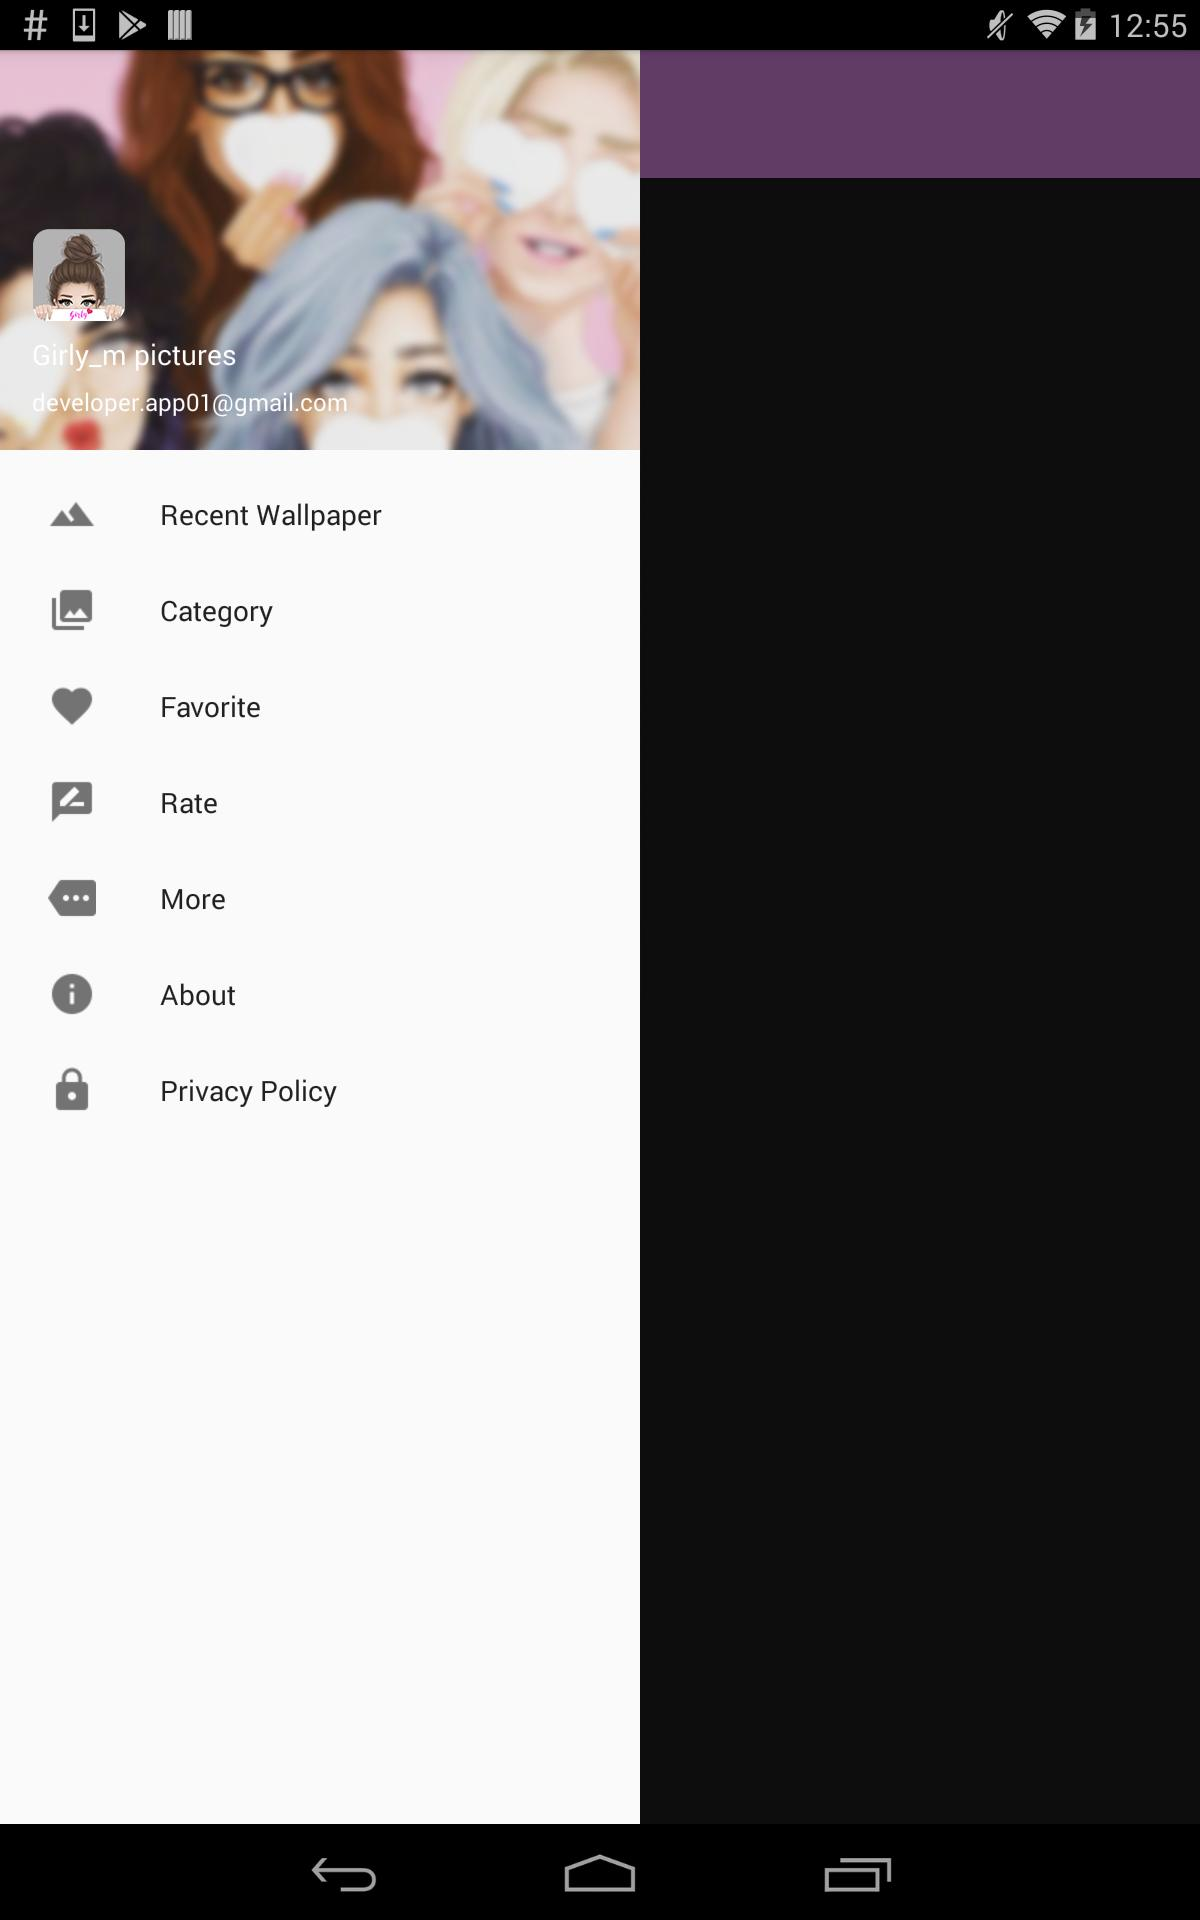android.support.v4.widget.DrawerLayout: (0, 50, 1200, 1825)
android.support.v7.widget.LinearLayoutCompat: (0, 466, 640, 563), (0, 753, 640, 850), (0, 945, 640, 1042), (0, 563, 640, 658), (0, 658, 640, 753), (0, 850, 640, 945), (0, 1042, 640, 1138)
android.support.v7.widget.RecyclerView: (0, 50, 640, 1825)
android.view.View: (0, 50, 1200, 178)
android.widget.CheckedTextView: (48, 466, 592, 563), (48, 753, 592, 850), (48, 945, 592, 1042), (48, 563, 592, 658), (48, 658, 592, 753), (48, 850, 592, 945), (48, 1042, 592, 1138)
android.widget.FrameLayout: (0, 0, 1200, 1825), (0, 50, 1200, 1825), (0, 178, 1200, 1825), (0, 50, 640, 1825)
android.widget.GridView: (4, 182, 1196, 1820)
android.widget.ImageButton: (17, 58, 129, 170)
android.widget.ImageView: (32, 227, 129, 323)
android.widget.LinearLayout: (0, 0, 1200, 1825), (0, 50, 1200, 1825), (0, 50, 640, 466), (0, 50, 640, 451)
android.widget.RelativeLayout: (0, 50, 1200, 1825), (0, 178, 1200, 1825)
android.widget.TextView: (32, 373, 608, 417), (32, 335, 608, 373), (135, 87, 426, 141)
